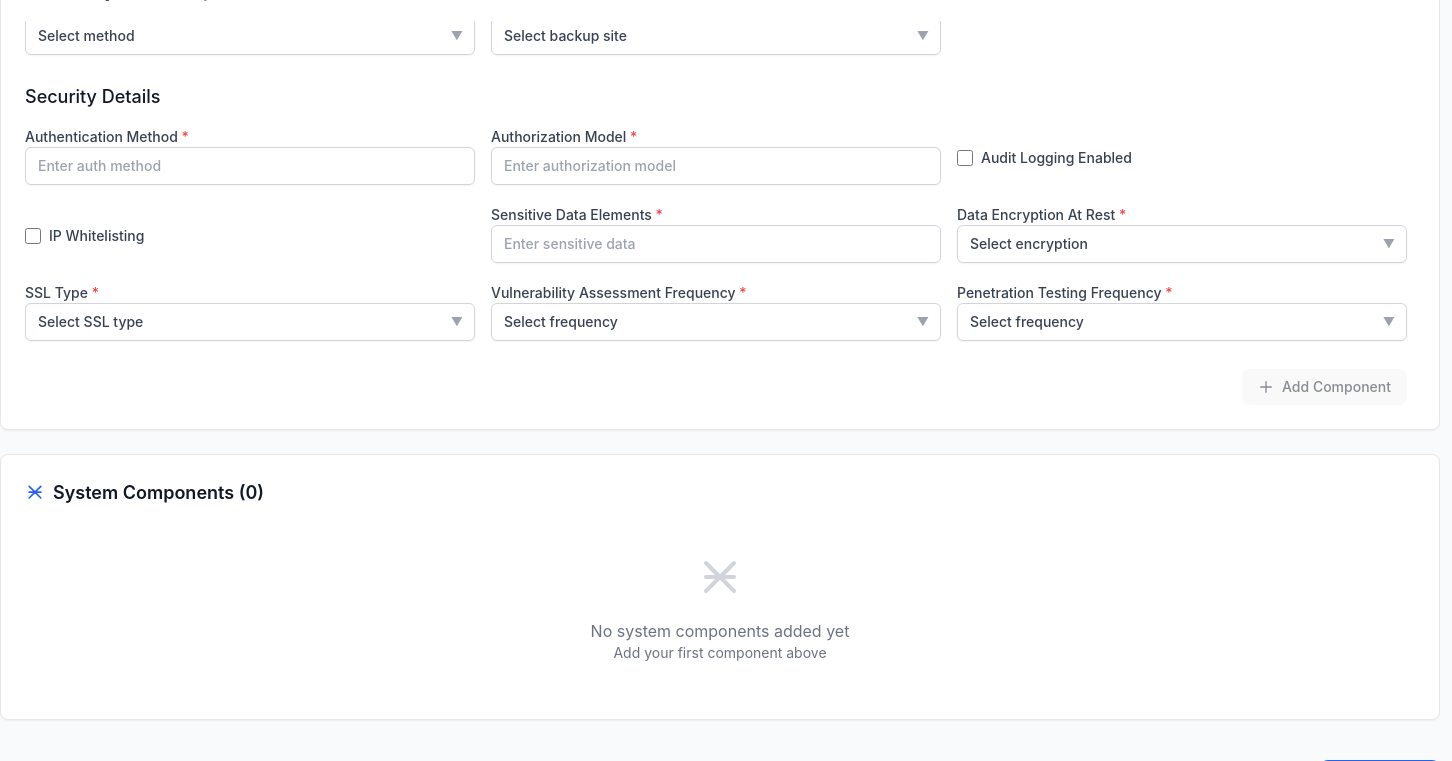
SystemComponentStep › Form Interactions › renders boolean checkbox fields
(page scrolled)
What coordinates should you click on to do the following:
click the button "Add Component"
I would click on:
 (1324, 387)
Its box is x1=1242 y1=369 x2=1407 y2=405.
(page scrolled)
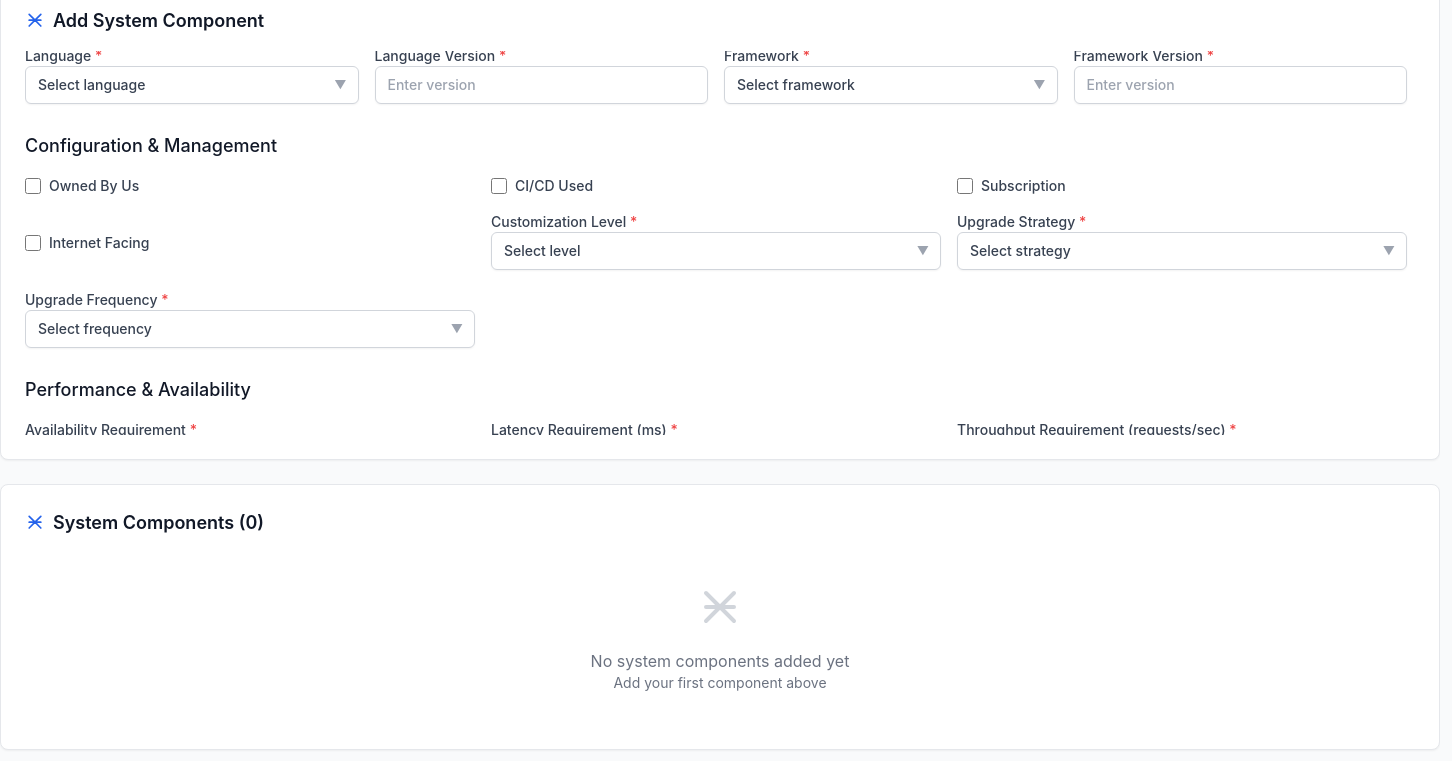
expect the text "Owned By Us" is shown: met, box x1=49 y1=176 x2=139 y2=196
expect the text "CI/CD Used" is shown: met, box x1=515 y1=176 x2=593 y2=196
expect the text "Subscription" is shown: met, box x1=981 y1=176 x2=1066 y2=196
